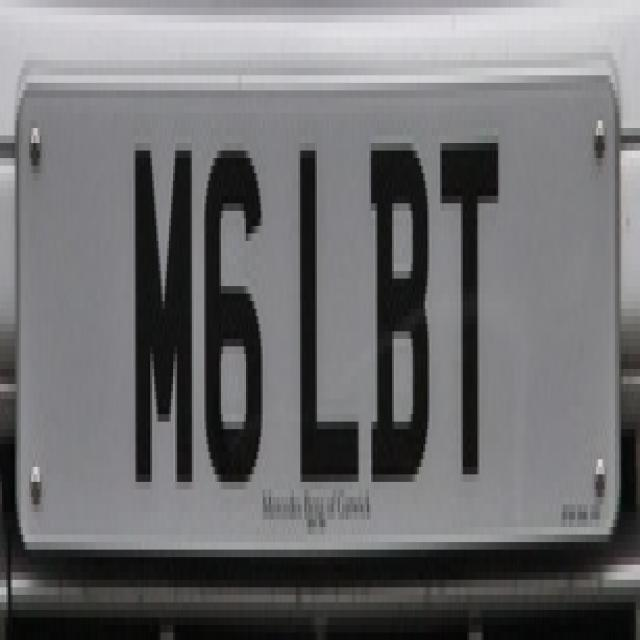LicensePlate: (12, 67, 627, 566)
